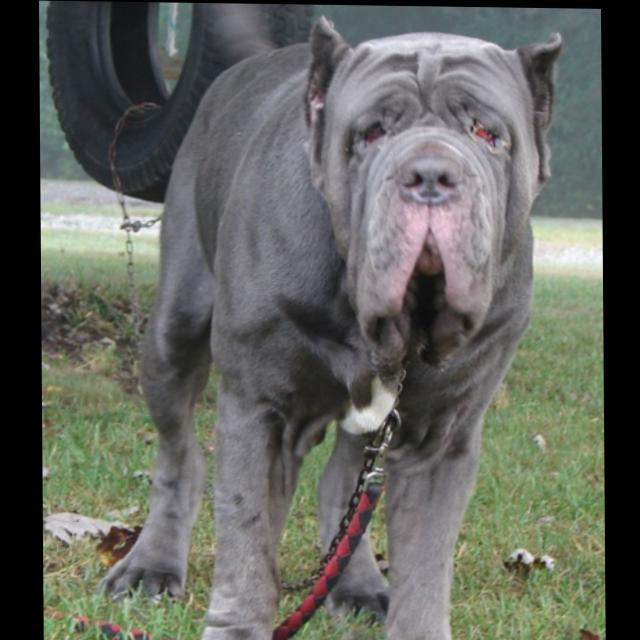mastino_napoletano: (93, 5, 569, 640)
